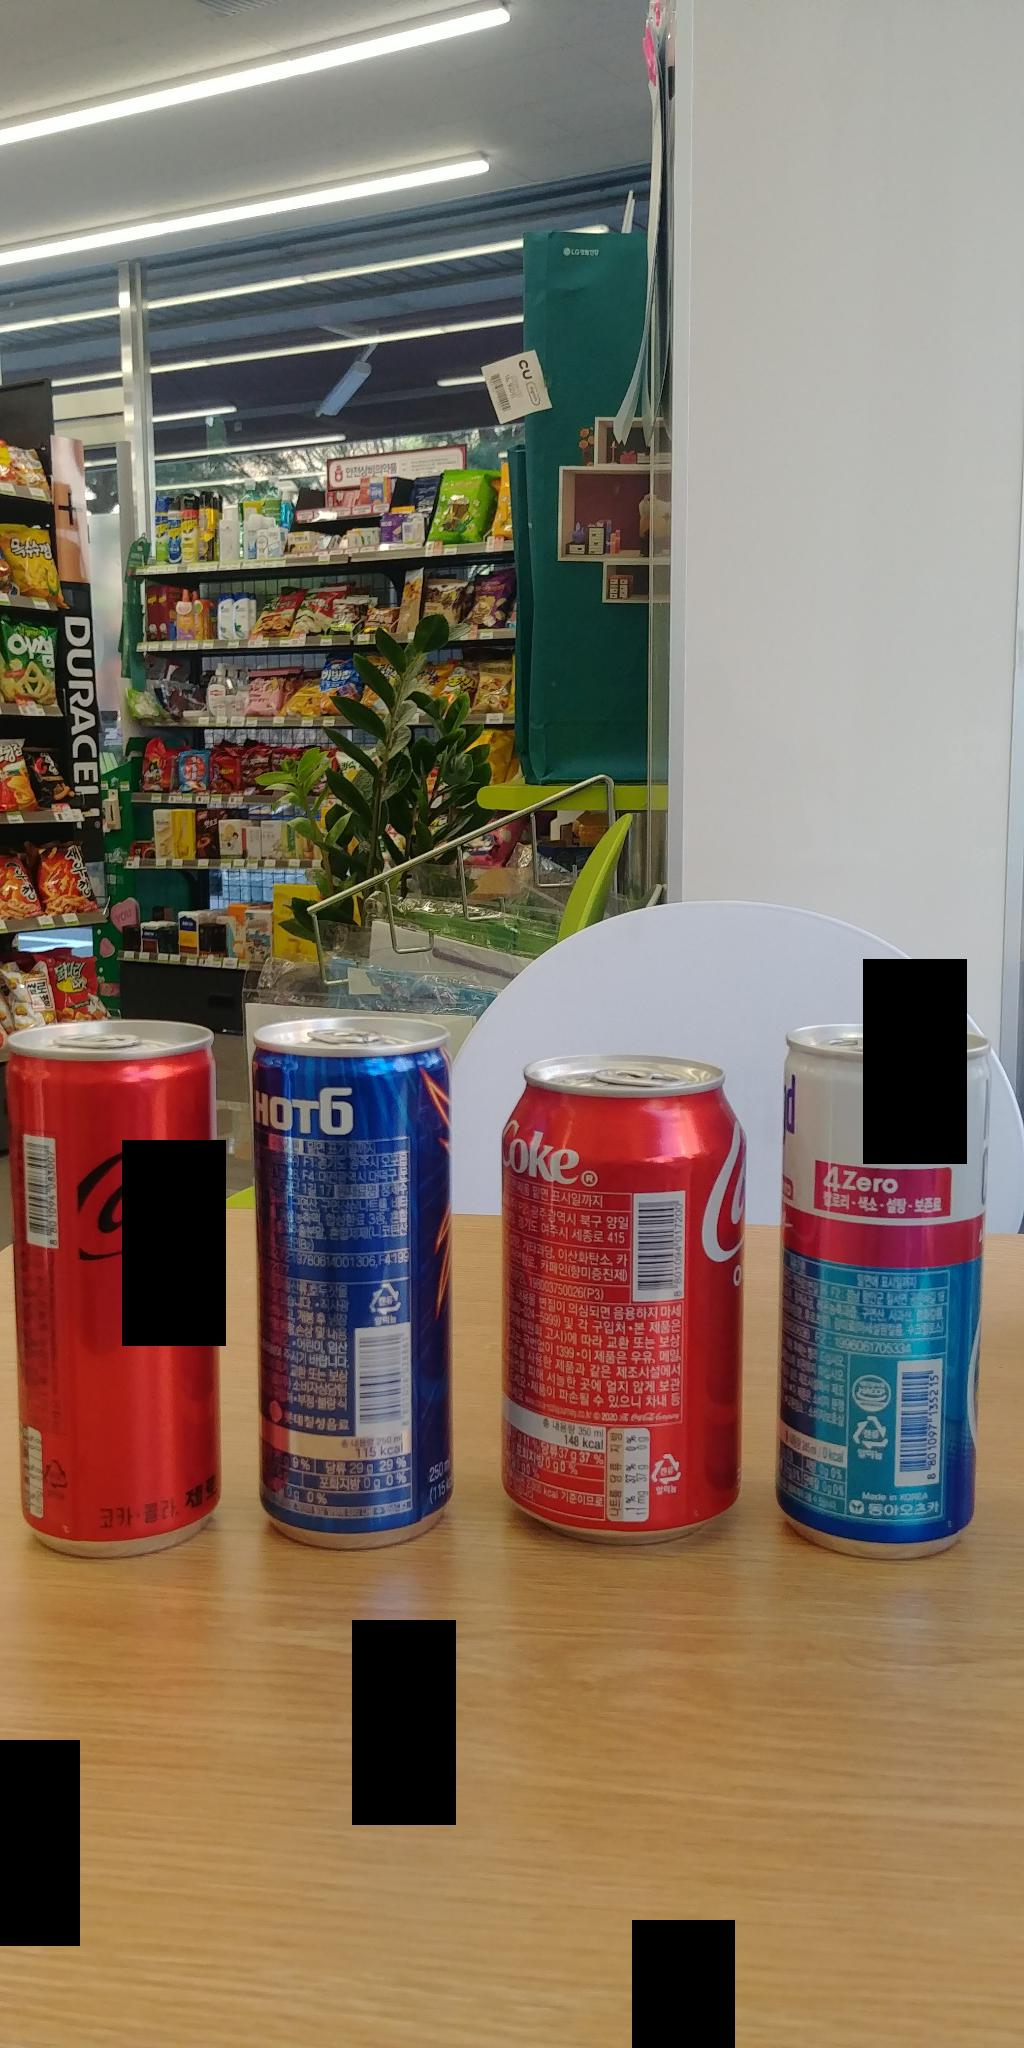cocacola: (499, 1048, 738, 1556)
hotsix_org: (238, 985, 443, 1553)
narangdcider: (780, 999, 1007, 1569)
